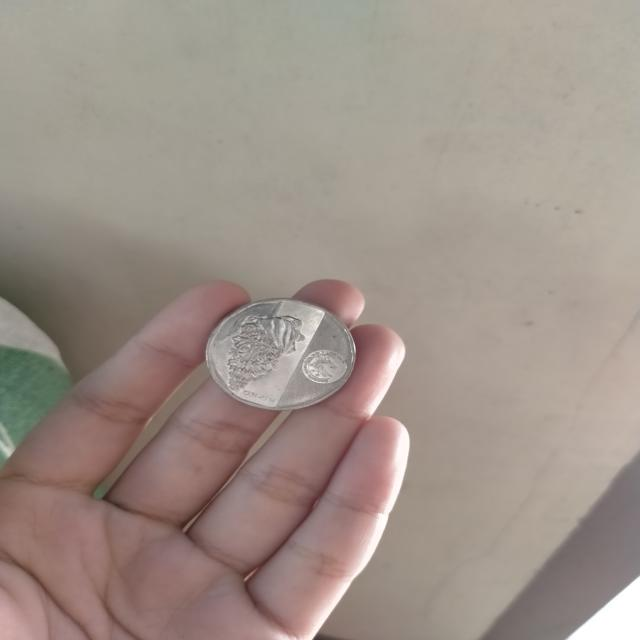10_New_Back: (216, 303, 316, 394)
